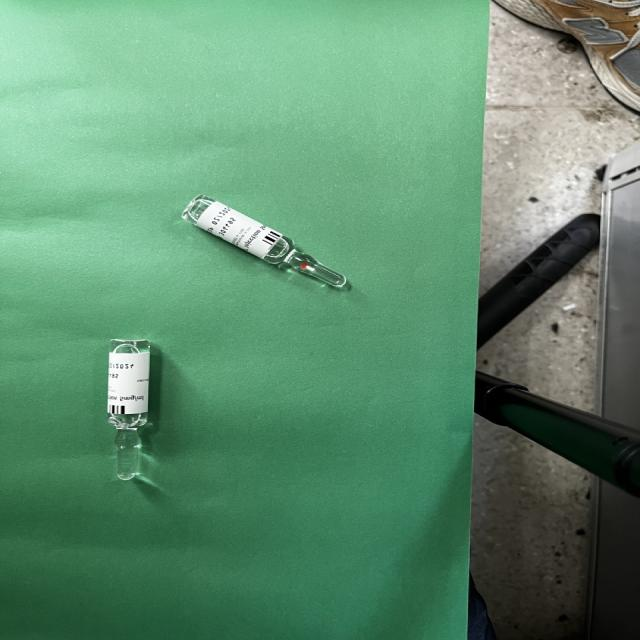Ampoules: (182, 196, 347, 288), (108, 339, 151, 480)
